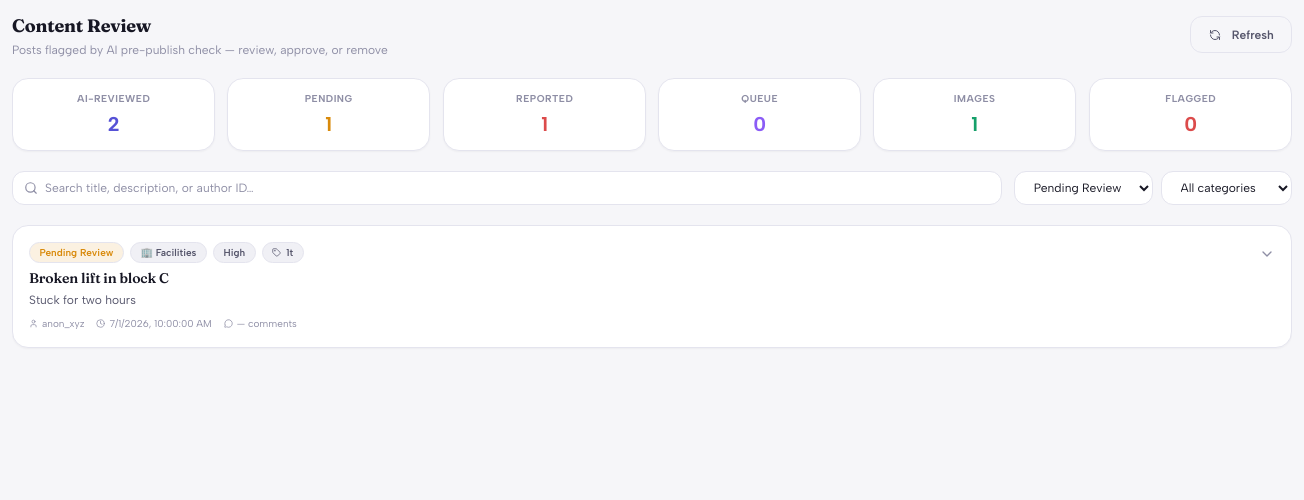
Scenario: ContentReview — filters › filters by category
The image size is (1304, 500).
Expected: the heading "Broken lift in block C" is shown, [29,269,169,287]
Select "All statuses" in the 1st dropdown at (1084, 188), box [1014,171,1153,205]
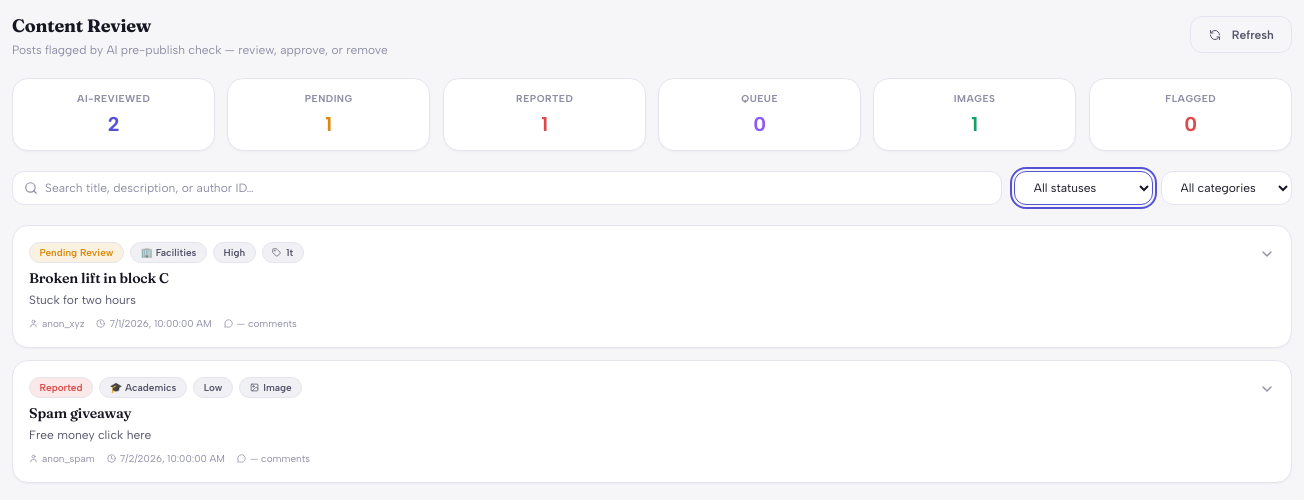
Select "🎓 Academics" in the 2nd dropdown at (1227, 188), box [1161,171,1292,205]
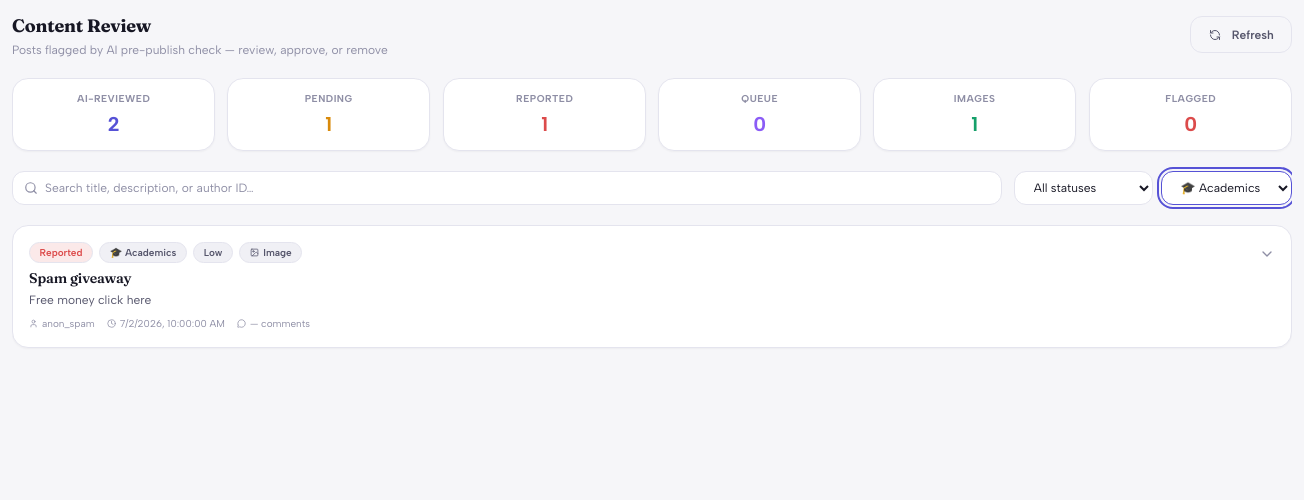
Result: the heading "Spam giveaway" is shown at [29,269,132,287]
Result: the heading "Broken lift in block C" is gone
